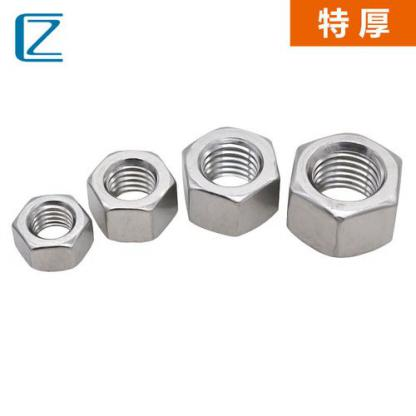FOD: (286, 132, 404, 262), (180, 125, 280, 238), (84, 149, 179, 245), (10, 192, 93, 270)
